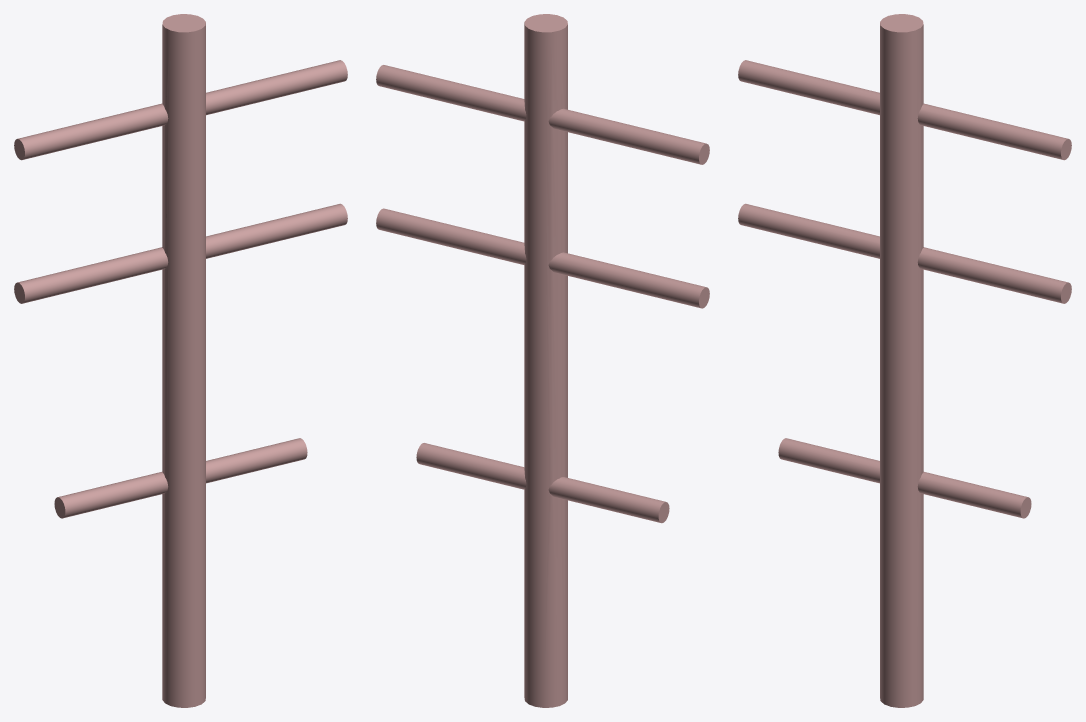
File: Sail4_Mast.fbx
3 renders of one model, left to right at view 1: azimuth 30°, elevation 25°; view 2: azimuth 150°, elevation 25°; view 3: azimuth 330°, elevation 25°, orthographic.
Visible parts, largest first — view 1: Model; view 2: Model; view 3: Model.
Part boxes in pixels (<box>): Model: <box>14,14,347,707</box>; Model: <box>376,14,709,707</box>; Model: <box>738,14,1071,707</box>.
Size of the model in its own units: 328 by 657 by 38.76.
